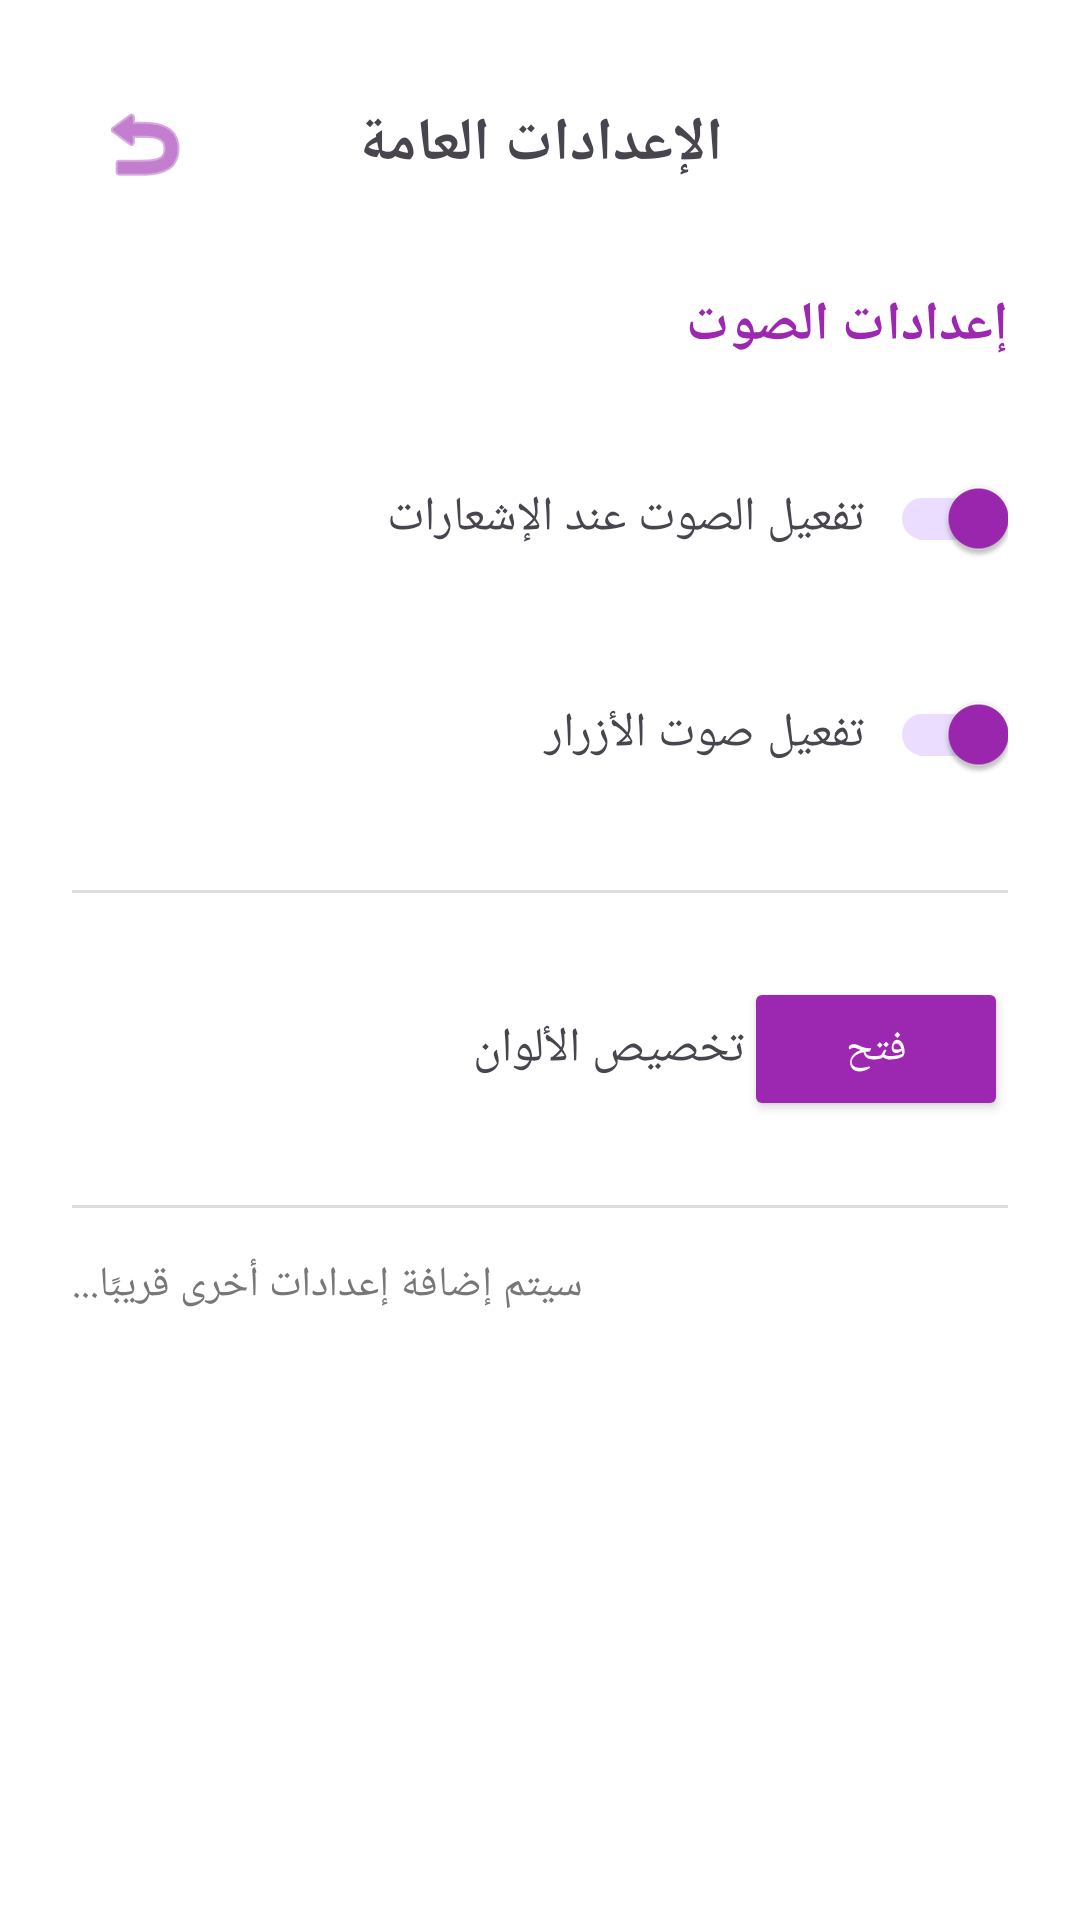

Icons on this 1080w x 1920h Android screen, each with the point to tap as (x,y):
رجوع: (145,144)
